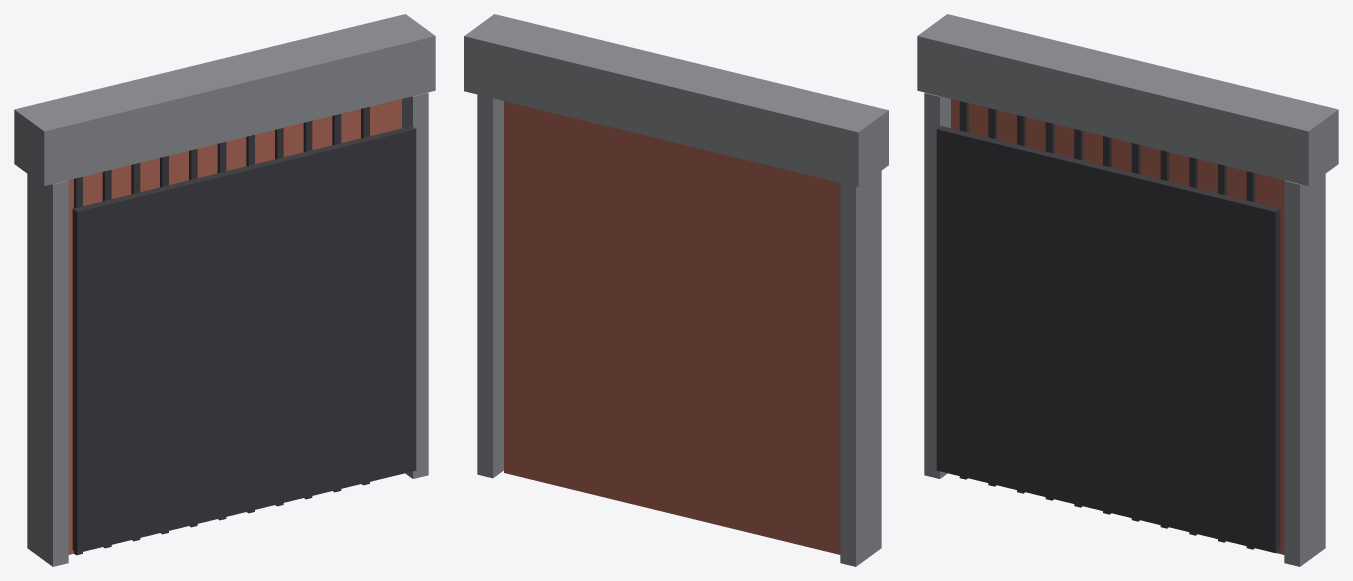
Rendered from prop_shutter_red.glb.
3 views of the same model, side by side, from view 1: azimuth 30°, elevation 25°; view 2: azimuth 150°, elevation 25°; view 3: azimuth 330°, elevation 25° (orthographic).
Parts seen in each view (by area): view 1: shutter_red; view 2: shutter_red; view 3: shutter_red.
Boxes of the visible parts, left/top/right/bottom form: shutter_red: left=14, top=14, right=435, bottom=566; shutter_red: left=464, top=14, right=888, bottom=566; shutter_red: left=917, top=14, right=1338, bottom=566.
Size of the model in its own units: 3 by 3.2 by 0.49.
